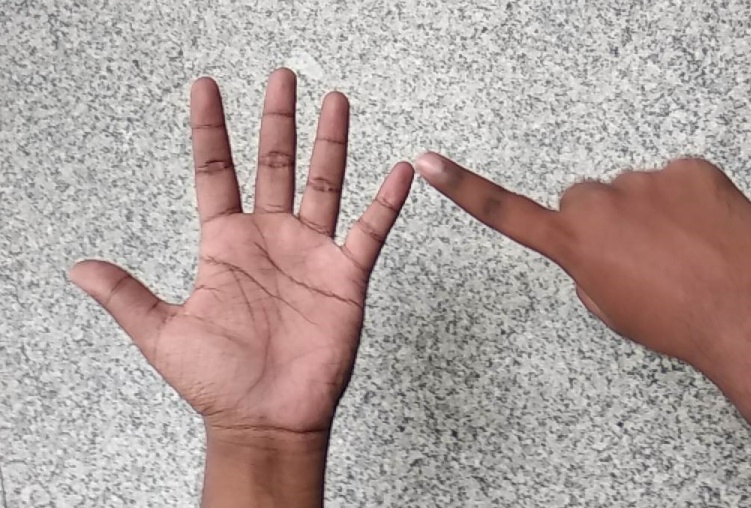i: (64, 62, 581, 440)
